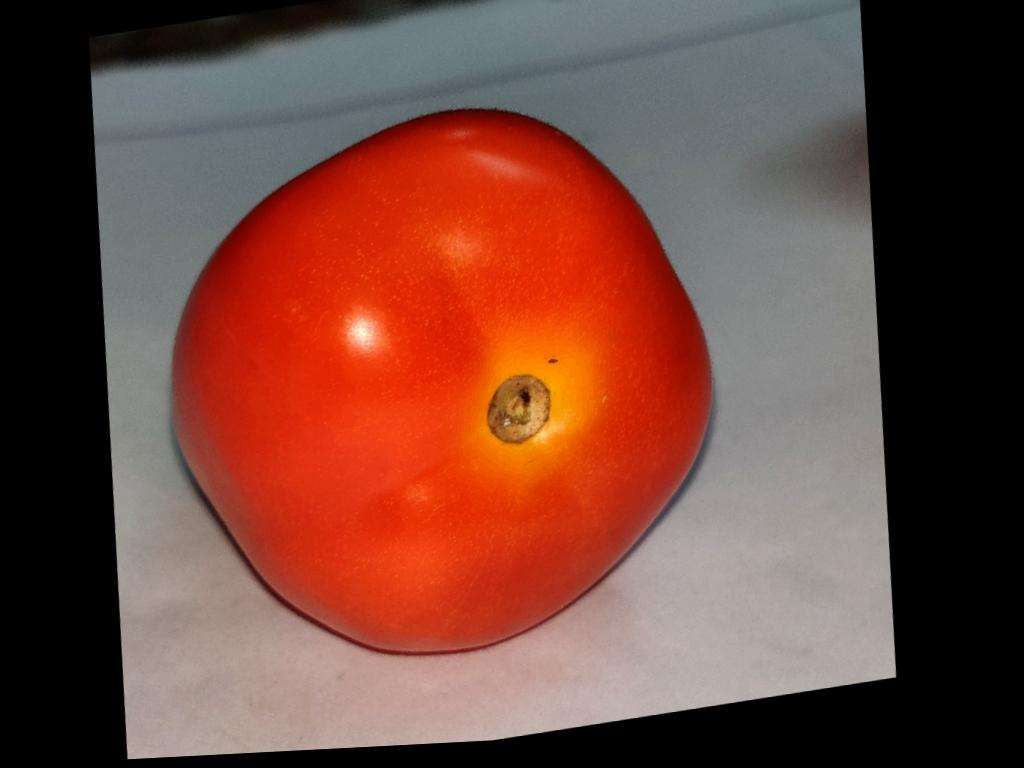tomato: (172, 111, 709, 653)
